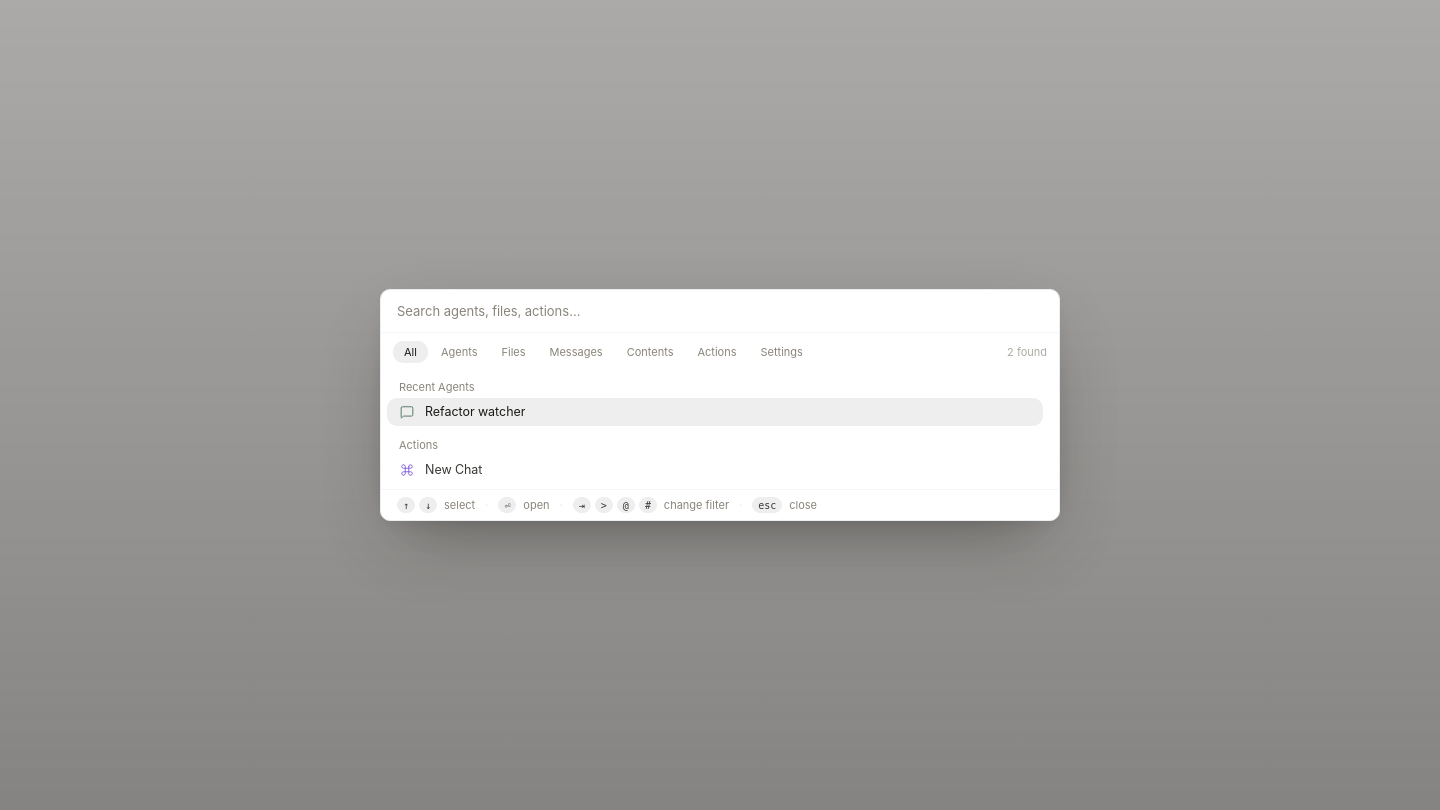
CommandPalette › exposes one tab per search chord and scopes results to the picked one
Expected: the text "New Chat" is shown, x1=425 y1=462 x2=482 y2=477
Expected: the text "Refactor watcher" is shown, x1=425 y1=404 x2=525 y2=419
Step 1. Click the tab "Agents" → point(459, 352), box x1=430 y1=341 x2=488 y2=363
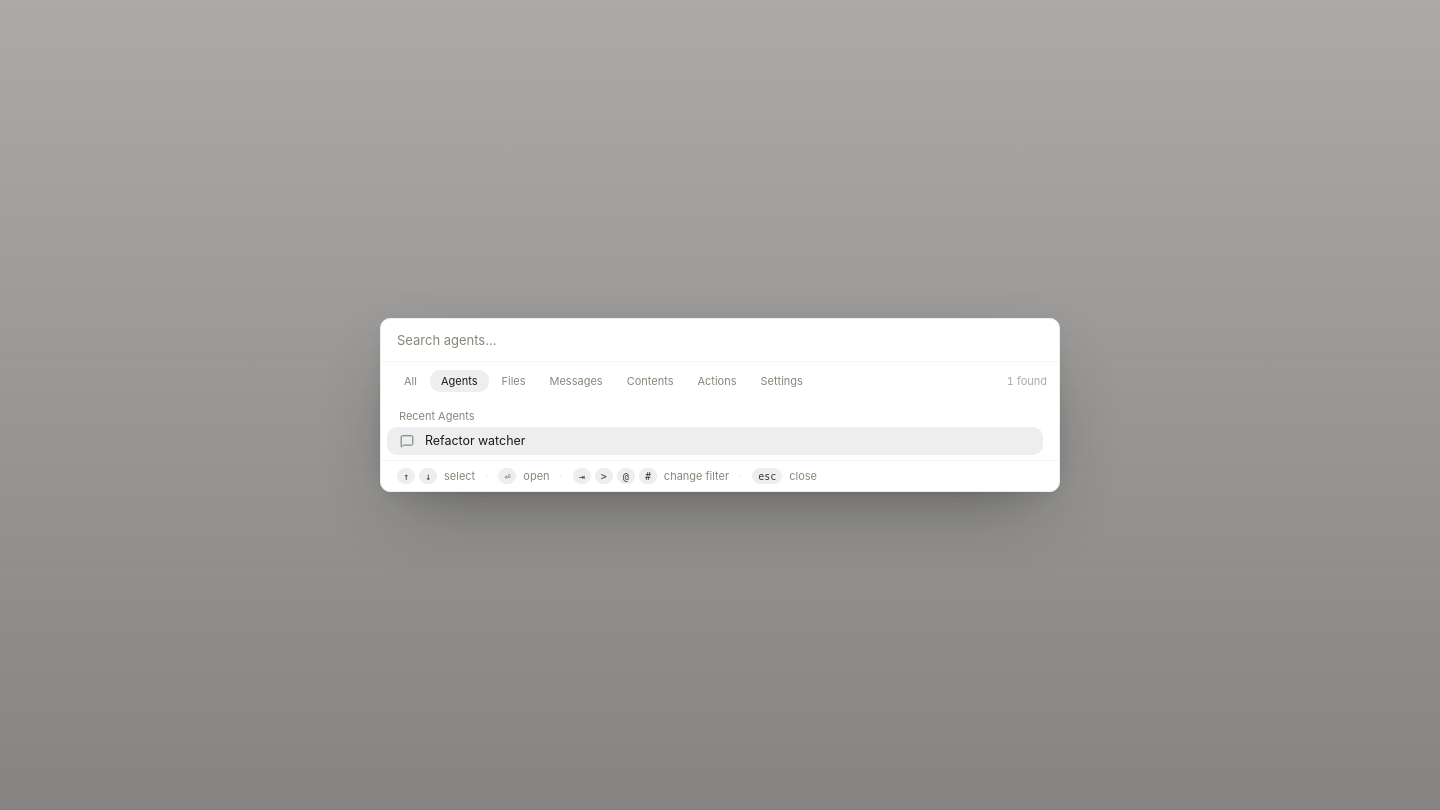
Expected: the tab "Agents" is shown, x1=430 y1=370 x2=488 y2=392
Result: the option "New Chat" is gone
